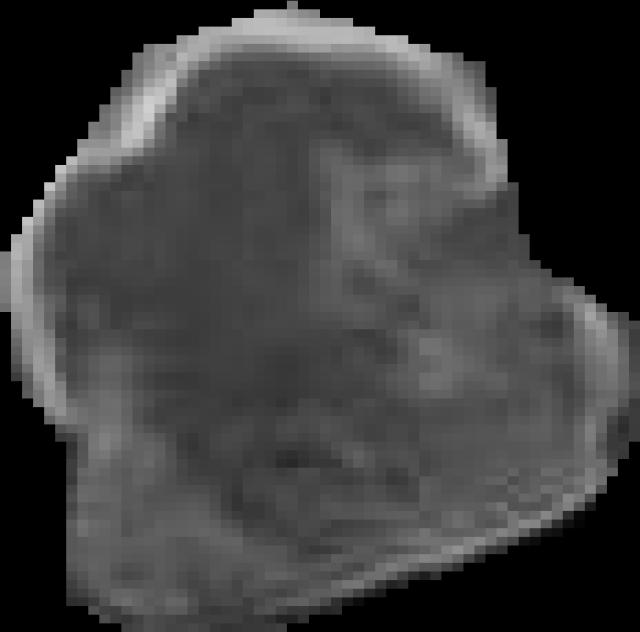tumor_moderate_chance: (0, 1, 640, 632)
